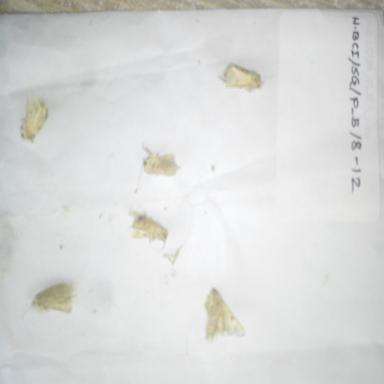abw: (198, 279, 246, 348), (20, 274, 82, 323), (15, 86, 55, 148), (215, 57, 274, 97), (135, 140, 187, 184), (124, 205, 172, 249)
